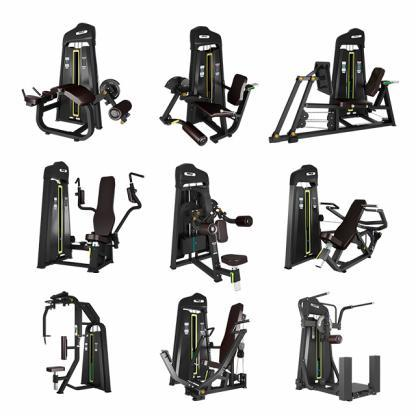Chest Press machine: (284, 163, 389, 275)
chest fly machine: (40, 291, 114, 397)
lateral raises machine: (169, 160, 255, 291), (292, 292, 384, 401)
reg curl machine: (20, 21, 133, 144)
